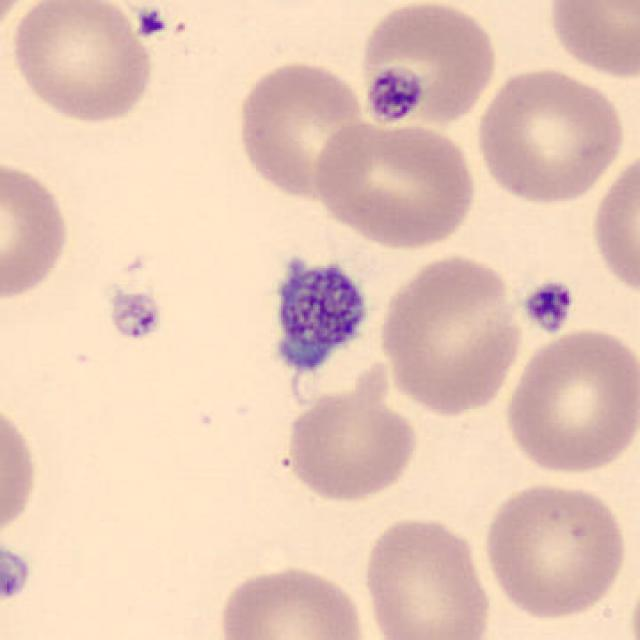Platelets: (256, 247, 377, 398), (362, 64, 427, 125), (519, 277, 578, 337), (108, 287, 164, 342), (0, 545, 34, 605), (132, 4, 167, 41)
RBC: (375, 250, 526, 418), (311, 118, 480, 252), (471, 64, 629, 206), (478, 478, 631, 622), (502, 324, 638, 480), (231, 56, 372, 201), (279, 365, 421, 508), (2, 2, 155, 130), (355, 0, 501, 130), (359, 511, 496, 640), (213, 560, 371, 640), (0, 157, 73, 303), (587, 141, 638, 302), (542, 0, 640, 83), (0, 395, 41, 546)
